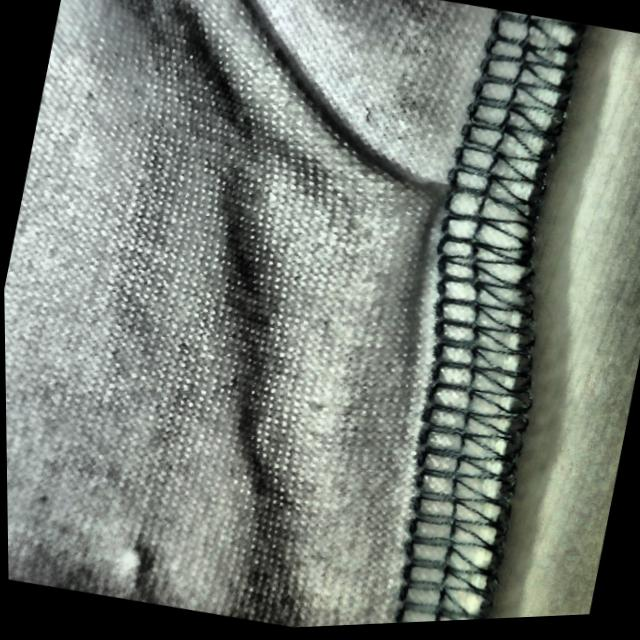seam: (284, 102, 578, 347)
